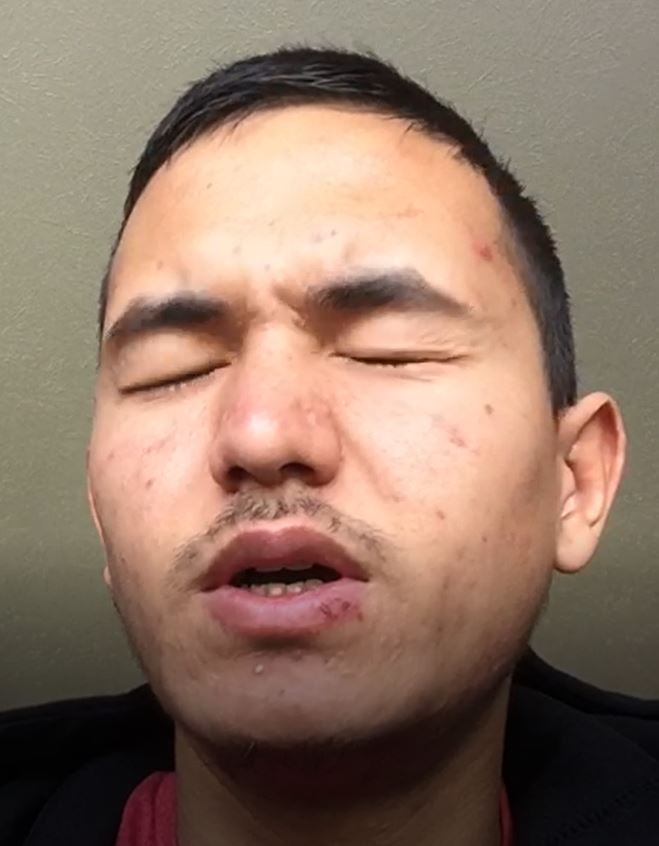Sleeping: (94, 282, 512, 420)
